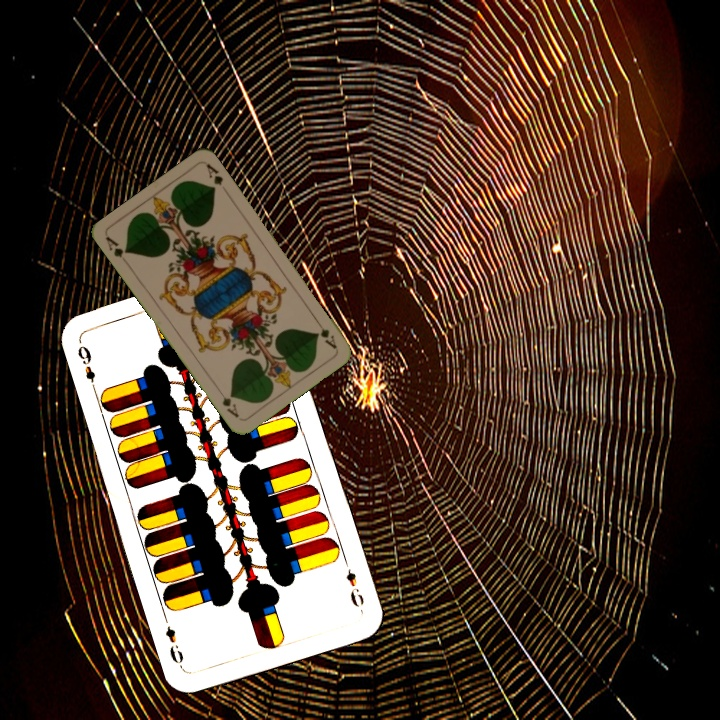E9: (73, 336, 99, 394), (342, 565, 367, 610)
GA: (311, 315, 339, 351), (102, 233, 131, 260)
